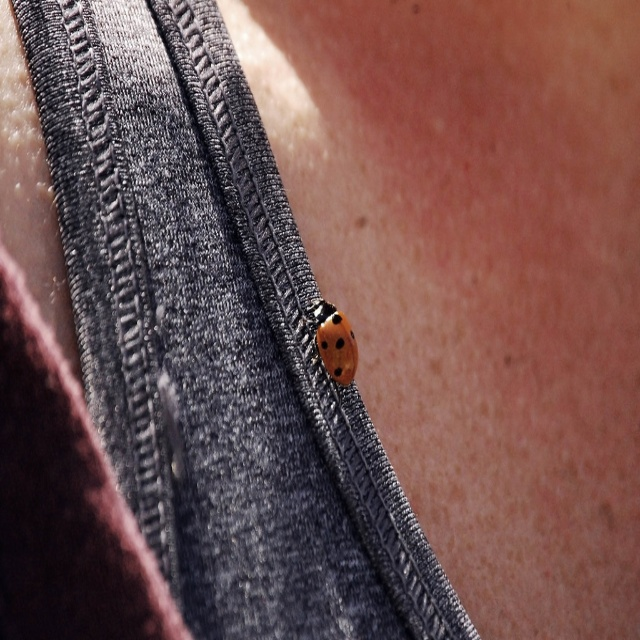Ladybug: (318, 298, 359, 389)
